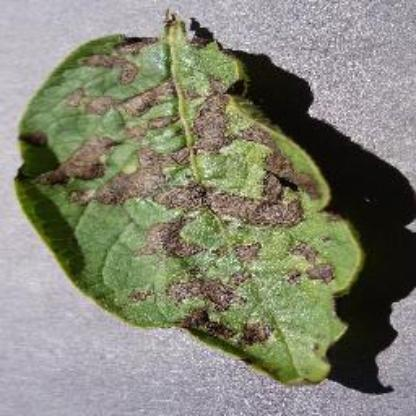Early-Blight: (8, 4, 362, 384)
